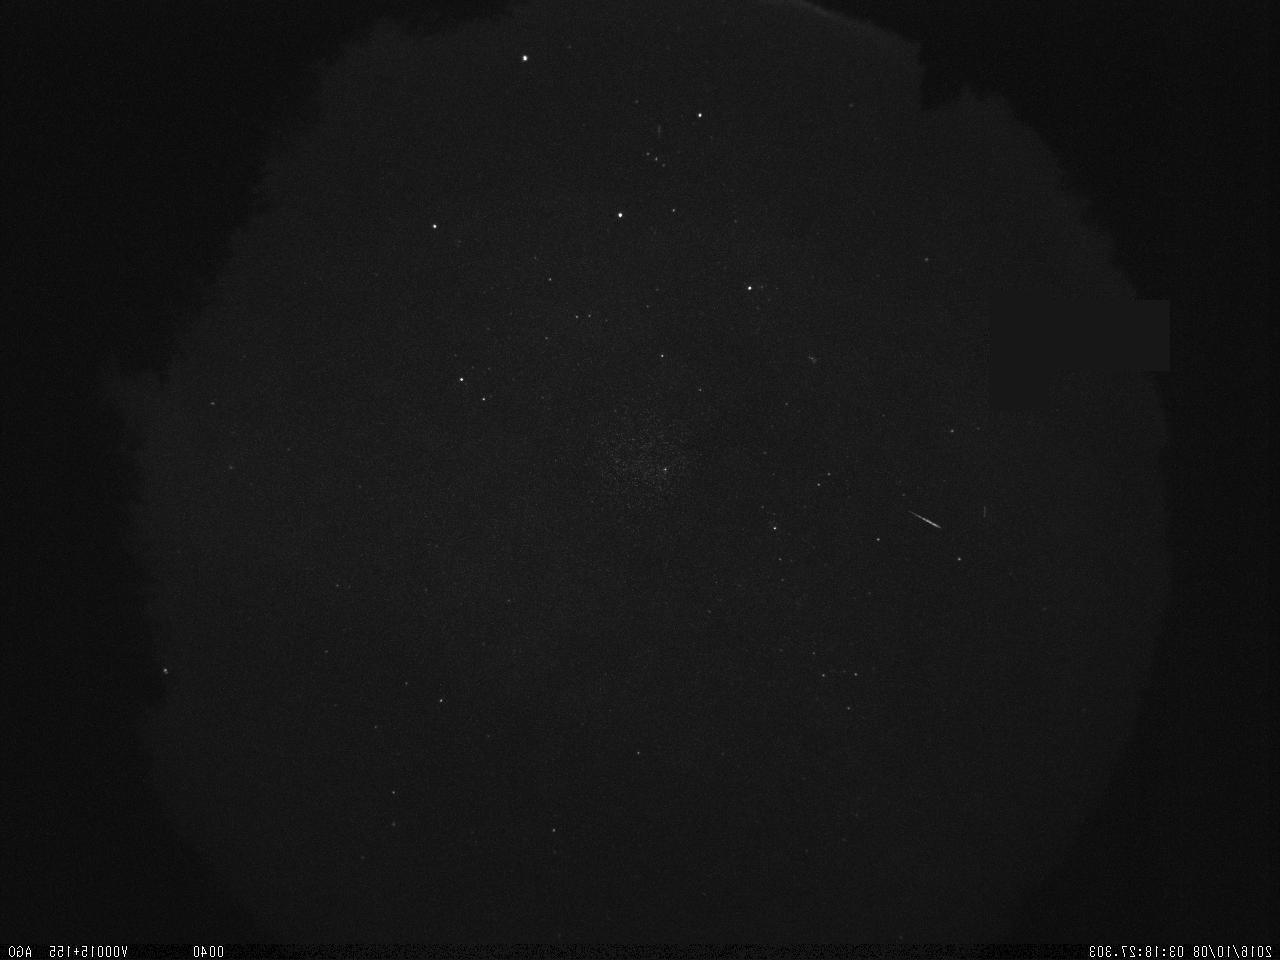meteor: (890, 487, 980, 548)
